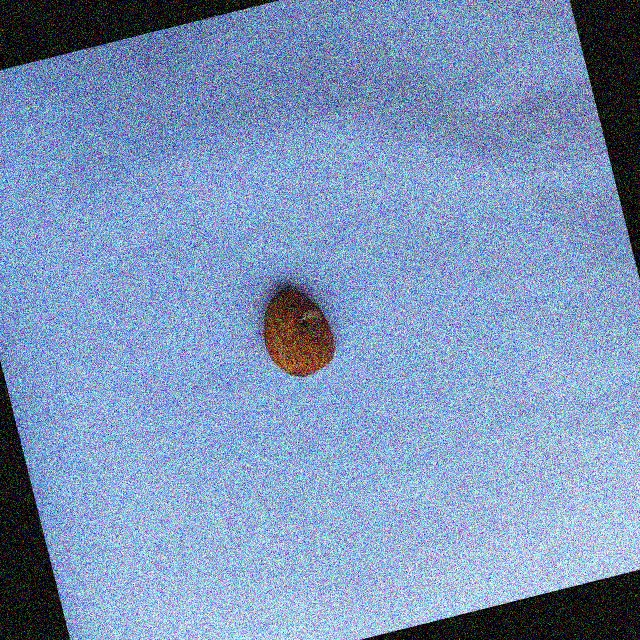grade3: (250, 275, 347, 388)
